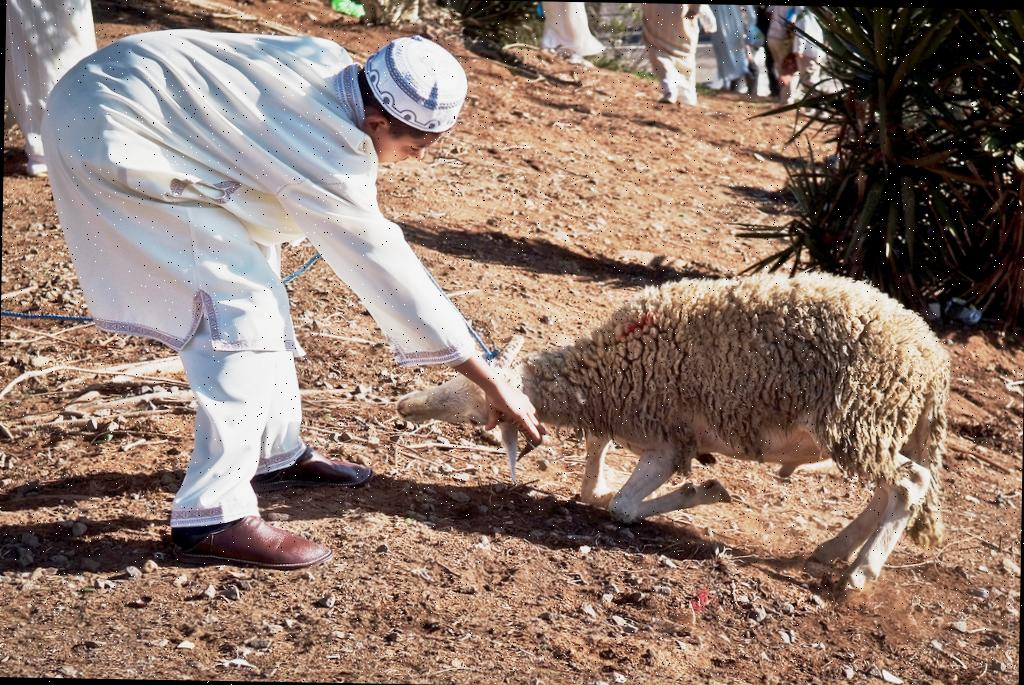Sheep: (393, 255, 954, 596)
